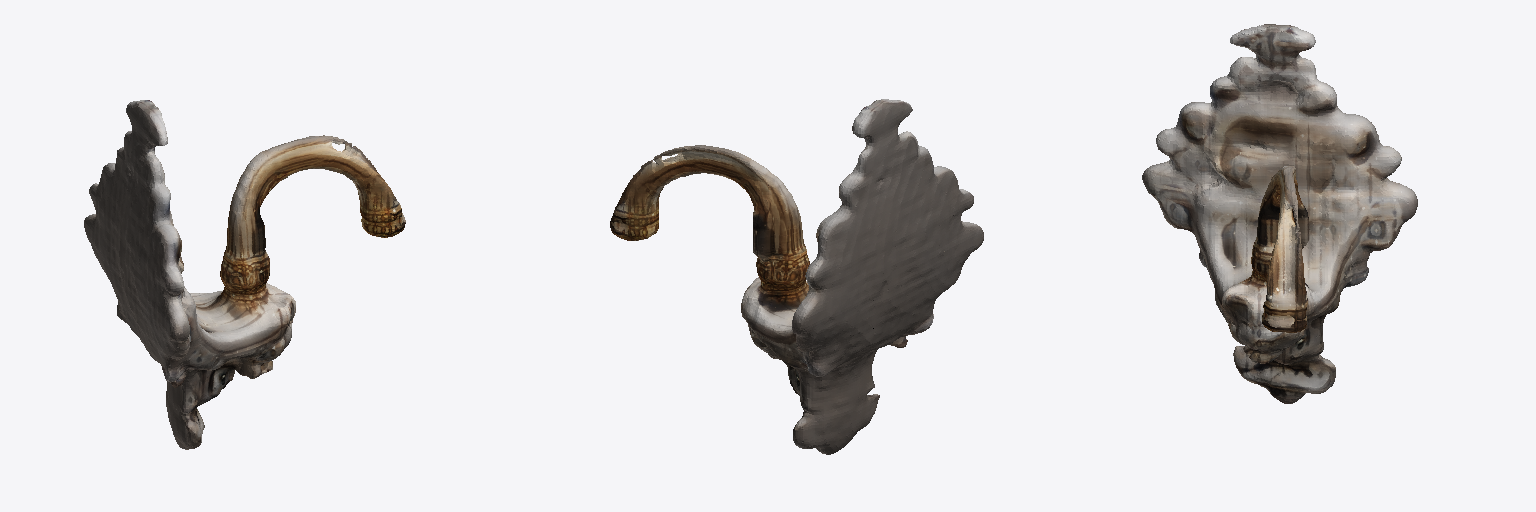
3 views of the same model, side by side, from view 1: azimuth 30°, elevation 25°; view 2: azimuth 150°, elevation 25°; view 3: azimuth 270°, elevation 25° (orthographic).
Size of the model in its own units: 1.76 by 1.99 by 1.39.
1 materials, 1 textured.